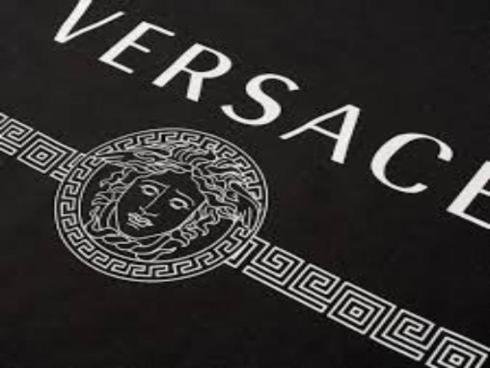VERSACE: (38, 2, 490, 278)
